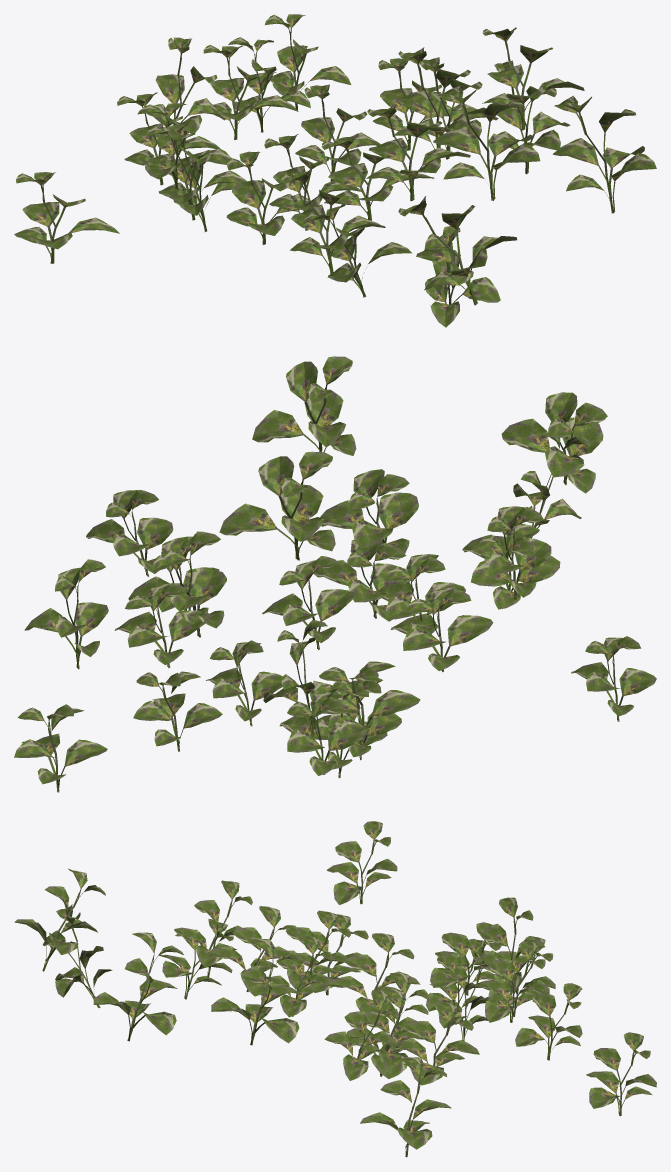
File: medium grass.fbx
3 views of the same model, one above another, from view 1: azimuth 30°, elevation 25°; view 2: azimuth 150°, elevation 25°; view 3: azimuth 270°, elevation 25° (orthographic). The views are drawn at different scales.
Parts seen in each view (by area): view 1: 中草; view 2: 中草; view 3: 中草.
Part boxes in pixels (left/top/right/bottom): 中草: left=14, top=14, right=656, bottom=327; 中草: left=14, top=356, right=656, bottom=792; 中草: left=14, top=821, right=656, bottom=1157.
Size of the model in its own units: 278 by 104 by 314.
